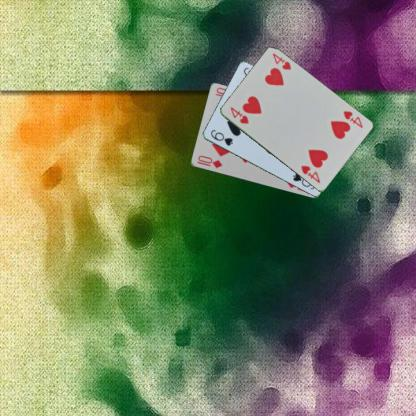10d: (194, 153, 224, 170)
4h: (340, 108, 364, 129), (227, 104, 250, 125)
6s: (208, 127, 234, 147)
